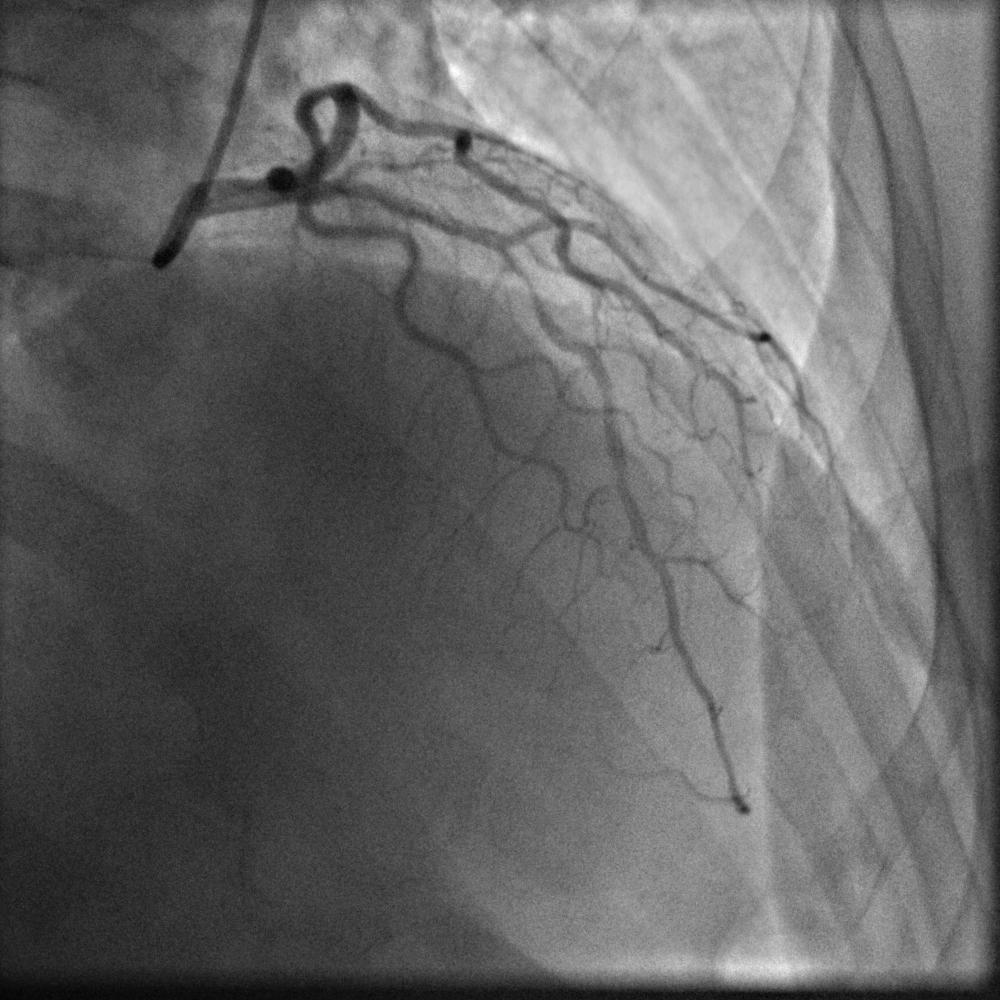Stenosis: (504, 262, 557, 332)
